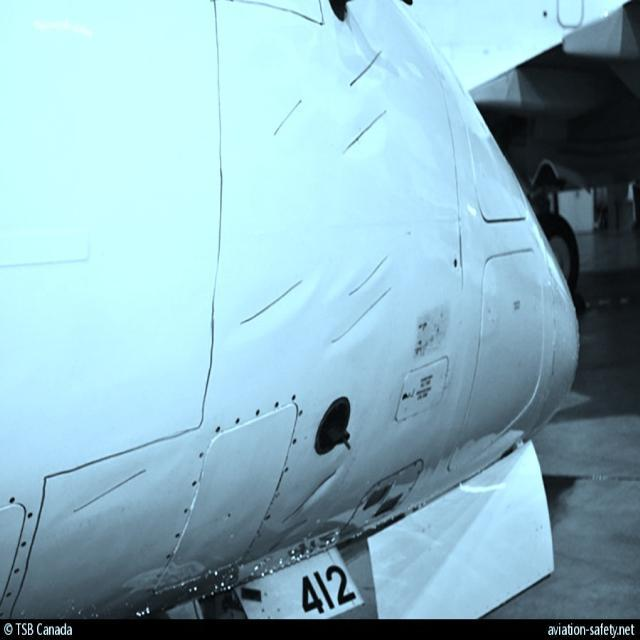dent: (332, 108, 393, 164)
